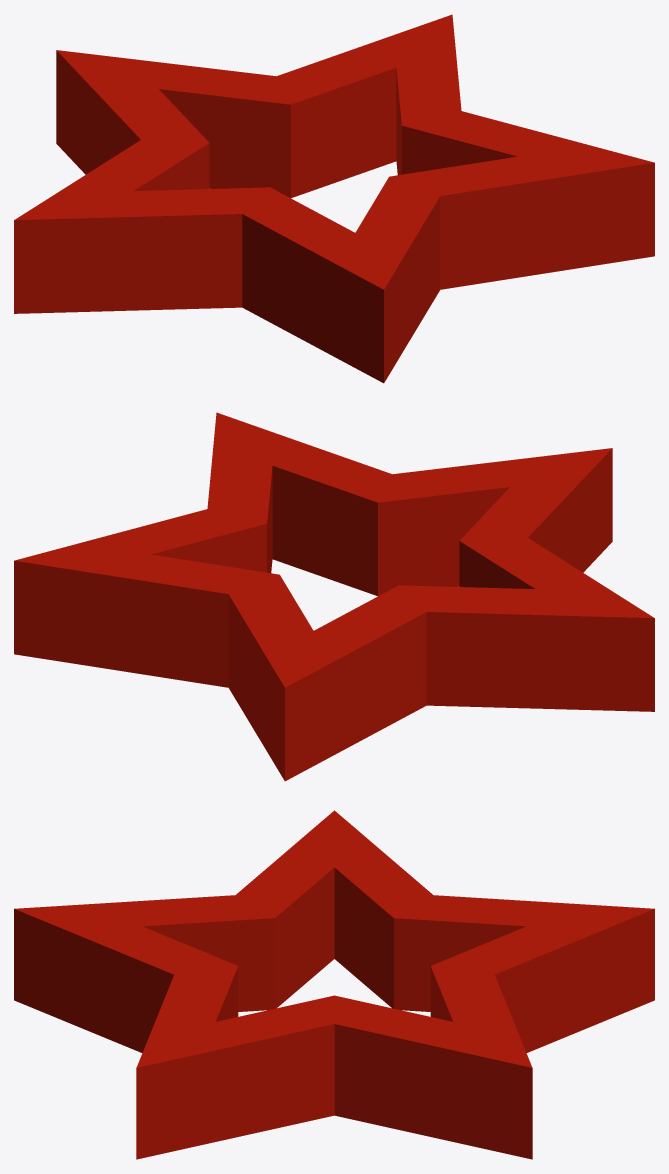
File: EmptyStar.fbx
3 views of the same model, one above another, from view 1: azimuth 30°, elevation 25°; view 2: azimuth 150°, elevation 25°; view 3: azimuth 270°, elevation 25° (orthographic). The views are drawn at different scales.
Parts seen in each view (by area): view 1: Star; view 2: Star; view 3: Star.
Boxes of the visible parts, x1,y1,x2,y2 form: Star: [14, 14, 654, 383]; Star: [14, 412, 654, 781]; Star: [14, 810, 654, 1159].
Bounding box in the file's own units: 72.36 × 12 × 76.08.
